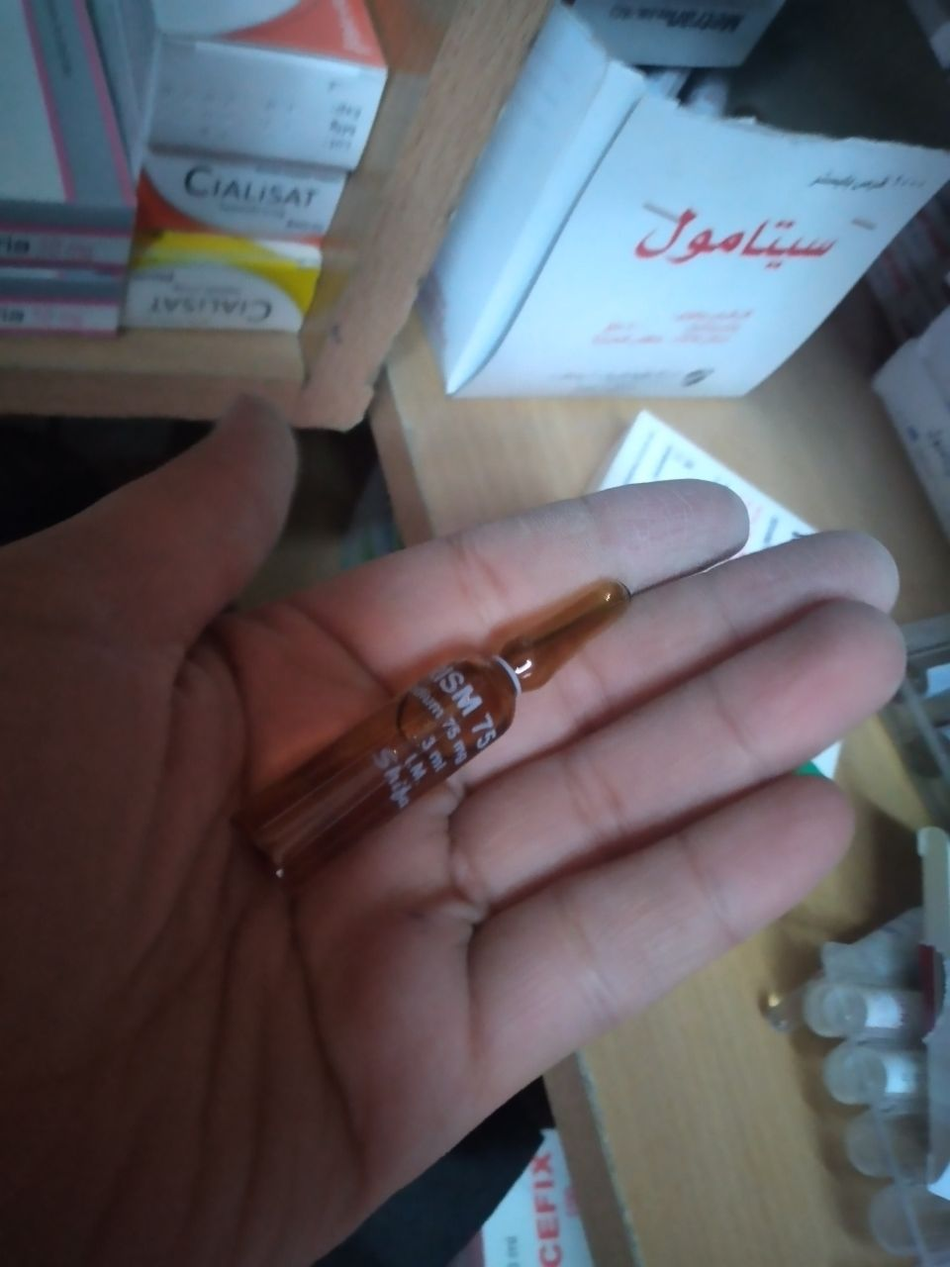Medicine: (449, 122, 947, 419), (228, 564, 663, 904), (148, 7, 402, 178), (135, 261, 346, 353), (142, 168, 383, 224)
